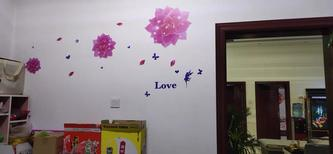switch: (109, 99, 120, 108)
